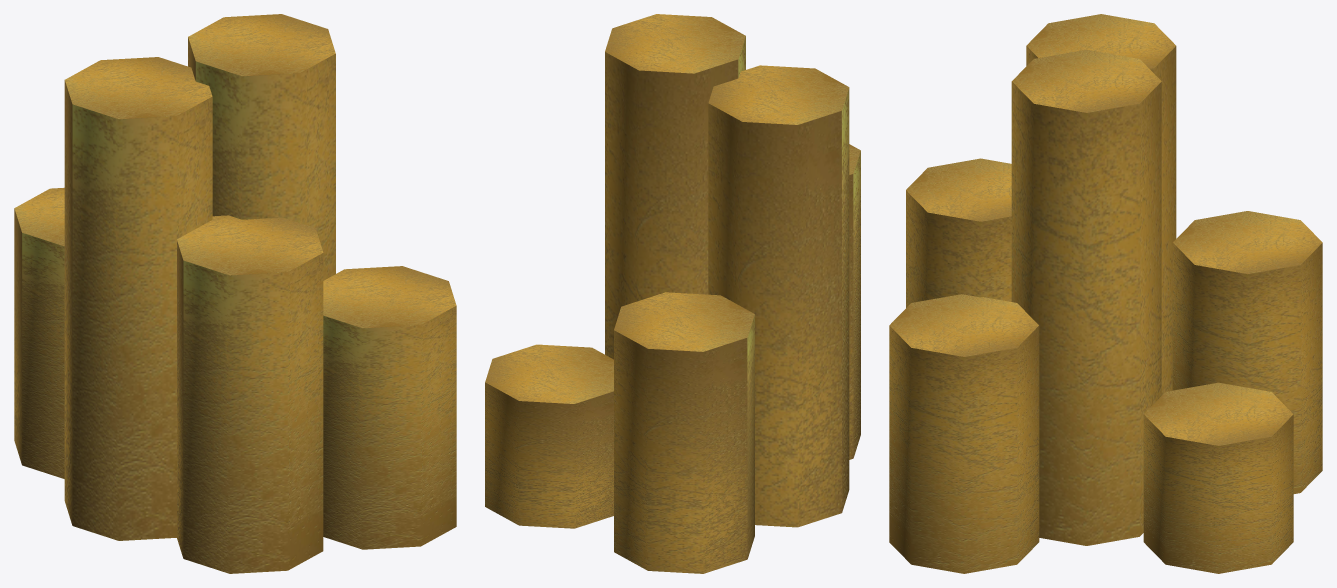
File: goldd.gltf
The picture shows the model from 3 angles, left to right: view 1: azimuth 30°, elevation 25°; view 2: azimuth 150°, elevation 25°; view 3: azimuth 270°, elevation 25°; orthographic projection. The views are drawn at different scales.
Parts seen in each view (by area): view 1: golda, goldc, goldd, goldb, golde; view 2: golda, golde, goldb, goldf, goldc; view 3: goldb, goldd, golde, goldf, goldc, golda.
Boxes of the visible parts, left/top/right/bottom form: golda: left=64, top=57, right=212, bottom=540; goldc: left=177, top=215, right=323, bottom=573; goldd: left=323, top=266, right=456, bottom=549; goldb: left=188, top=14, right=335, bottom=280; golde: left=14, top=187, right=64, bottom=478; golda: left=708, top=65, right=849, bottom=527; golde: left=614, top=292, right=754, bottom=573; goldb: left=605, top=14, right=745, bottom=359; goldf: left=485, top=344, right=613, bottom=528; goldc: left=849, top=144, right=860, bottom=459; goldb: left=1011, top=49, right=1161, bottom=545; goldd: left=889, top=294, right=1039, bottom=573; golde: left=1172, top=211, right=1322, bottom=493; goldf: left=1143, top=382, right=1293, bottom=573; goldc: left=906, top=158, right=1011, bottom=307; golda: left=1026, top=14, right=1176, bottom=395.
Size of the model in its own units: 0.2633 by 0.3626 by 0.3288.
Materials: 1 (1 with a texture image).
